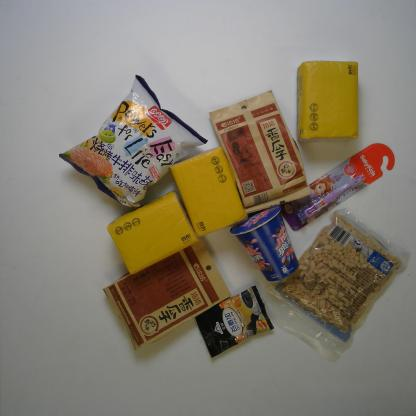Dessert: (229, 204, 306, 280)
Dried Food: (104, 236, 230, 360), (201, 92, 310, 210)
Dried Fruit: (262, 208, 405, 356)
Instant Drink: (190, 285, 280, 363)
Personal Hygiene: (274, 141, 398, 228)
Puffed Food: (59, 75, 215, 220)
Tissue: (103, 190, 200, 275), (169, 147, 250, 242), (292, 60, 365, 147)
